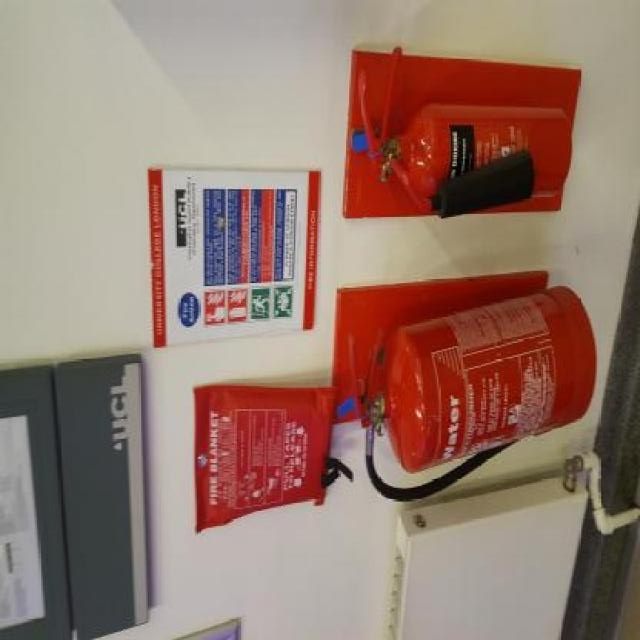fire extinguisher: (346, 282, 600, 506), (358, 44, 573, 222)
